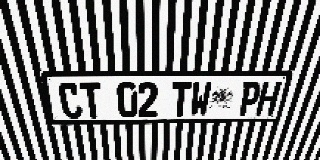0: (116, 82, 138, 118)
2: (138, 82, 158, 117)
C: (57, 82, 84, 119)
H: (255, 81, 282, 115)
P: (237, 81, 263, 116)
T: (79, 82, 104, 118), (171, 82, 192, 117)
W: (189, 82, 212, 116)
